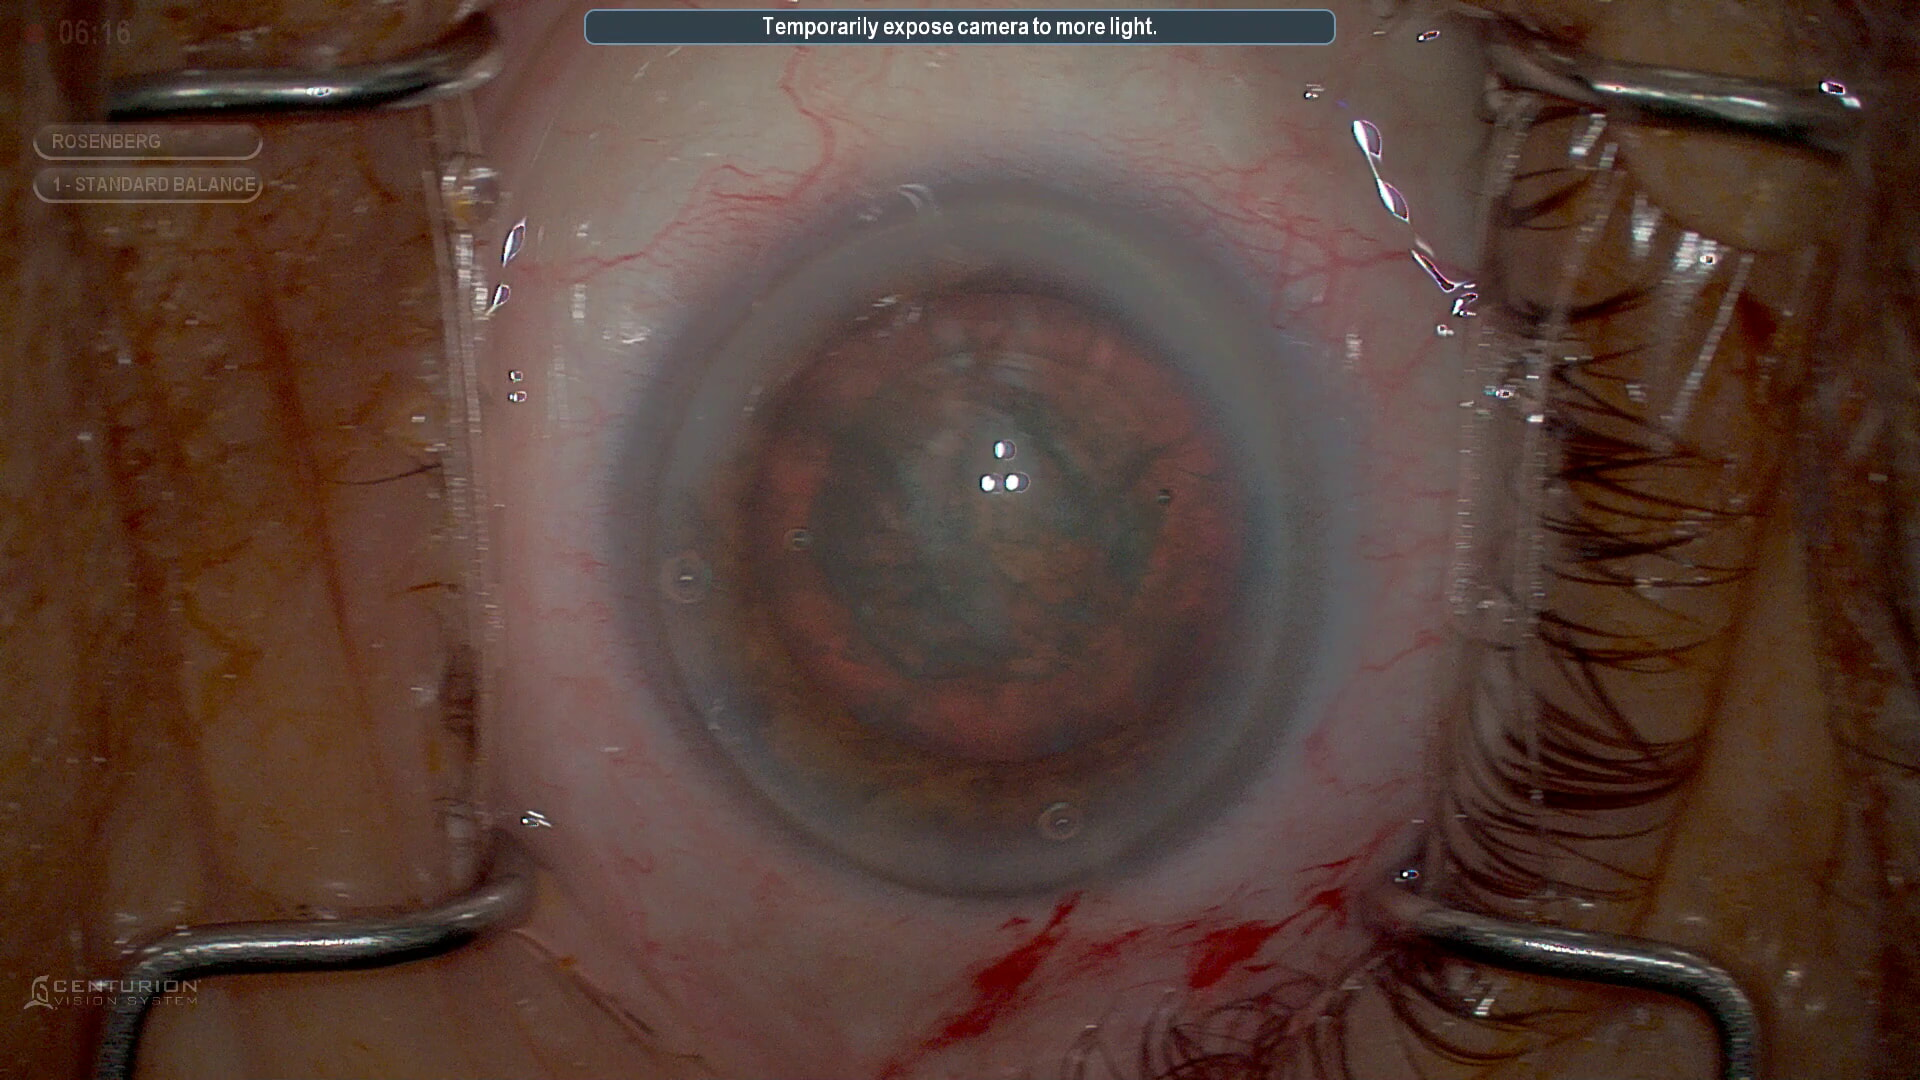iris: (650, 195, 1333, 899)
pupil: (747, 289, 1250, 768)
